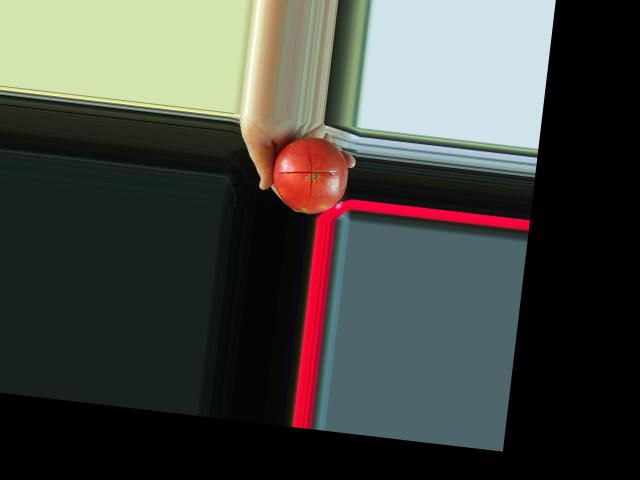tomato: (268, 132, 353, 217)
